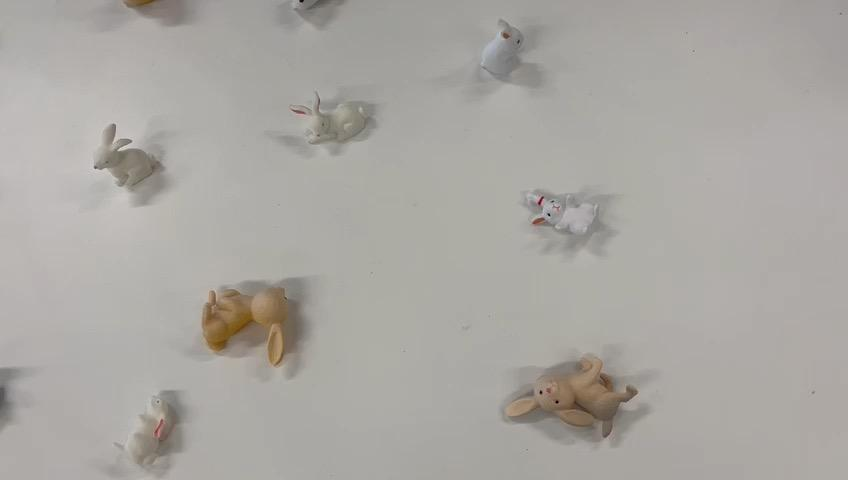pet: (503, 349, 645, 447), (198, 281, 301, 367), (287, 87, 385, 157), (89, 119, 169, 195), (112, 390, 179, 474), (519, 187, 603, 242), (472, 12, 527, 86)
